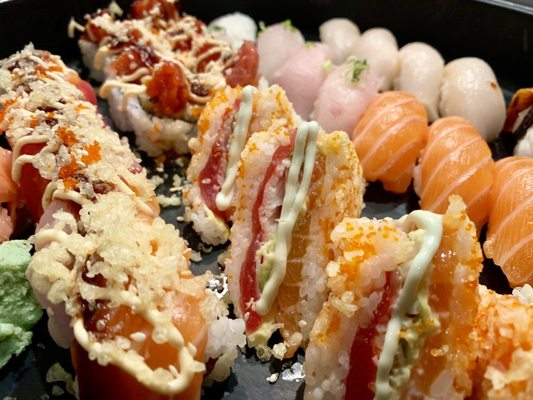curry: (0, 239, 45, 377)
